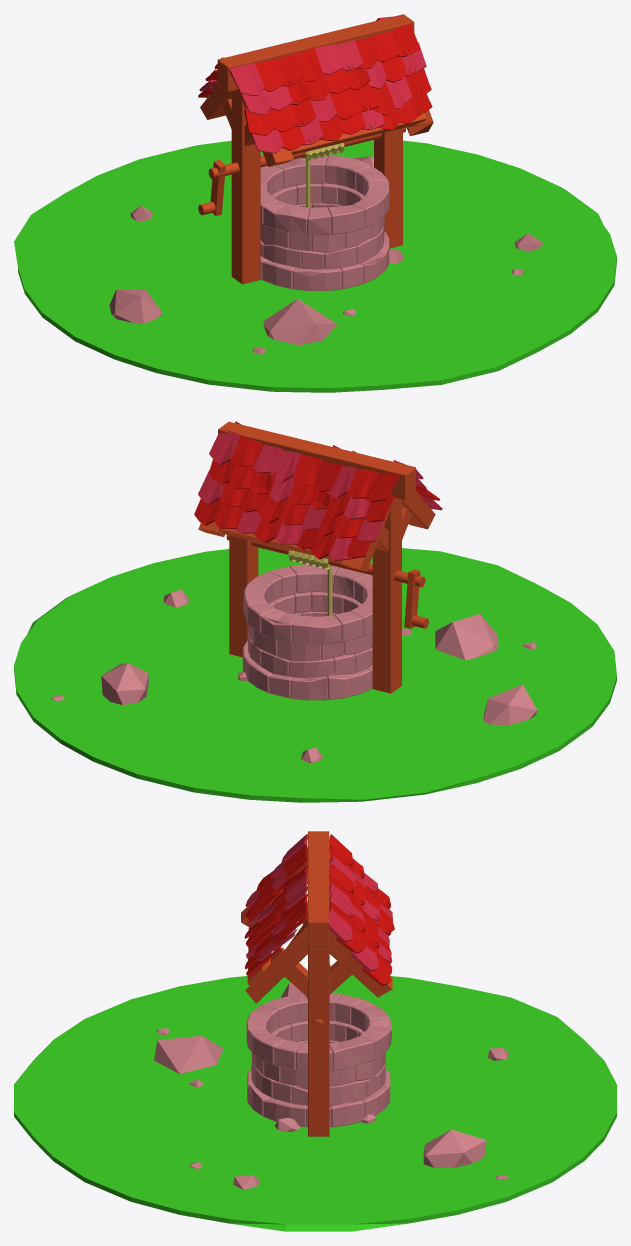
The model's file is well.obj.
The picture shows the model from 3 angles, top to bottom: view 1: azimuth 30°, elevation 25°; view 2: azimuth 150°, elevation 25°; view 3: azimuth 270°, elevation 25°; orthographic projection.
Parts seen in each view (by area): view 1: Cylinder.004_Cylinder.009, Plane, Cube.005, Cube.006_Cube.007, Cube.004, Cube.001, Cube.007_Cube.008, Cube.003, Cube_Cube.006, Icosphere.002, Icosphere.008, Cube.017_Cube.018 (+3 smaller); view 2: Cylinder.004_Cylinder.009, Plane.001, Cube.005, Cube.006_Cube.007, Cube.004, Cube.007_Cube.008, Cube.001, Cube_Cube.006, Cube.003, Icosphere.002, Icosphere.009, Icosphere.008 (+5 smaller); view 3: Cylinder.004_Cylinder.009, Cube.005, Plane.001, Plane, Cube_Cube.006, Cube.004, Cube.001, Cube.007_Cube.008, Cube.003, Icosphere.002, Icosphere.009, Cube.012_Cube.013 (+1 smaller).
Boxes of the visible parts, x1,y1,x2,y2 form: Cylinder.004_Cylinder.009: (14,140,616,392); Plane: (229,24,432,153); Cube.005: (260,155,389,235); Cube.006_Cube.007: (231,90,260,284); Cube.004: (260,182,384,252); Cube.001: (260,231,389,290); Cube.007_Cube.008: (217,14,414,92); Cube.003: (260,203,384,269); Cube_Cube.006: (374,128,402,248); Icosphere.002: (263,298,337,345); Icosphere.008: (109,289,162,324); Cube.017_Cube.018: (291,108,426,154); Cylinder.004_Cylinder.009: (14,547,616,802); Plane.001: (194,428,399,560); Cube.005: (243,564,372,644); Cube.006_Cube.007: (372,497,401,693); Cube.004: (248,592,372,661); Cube.007_Cube.008: (218,421,415,499); Cube.001: (242,640,372,700); Cube_Cube.006: (229,535,258,657); Cube.003: (248,611,372,678); Icosphere.002: (435,614,498,660); Icosphere.009: (101,663,148,705); Icosphere.008: (483,684,537,725); Cylinder.004_Cylinder.009: (14,974,616,1231); Cube.005: (246,993,392,1071); Plane.001: (326,834,394,985); Plane: (244,834,307,976); Cube_Cube.006: (308,942,329,1136); Cube.004: (251,1020,385,1087); Cube.001: (247,1068,390,1127); Cube.007_Cube.008: (308,831,329,946); Cube.003: (251,1040,385,1105); Icosphere.002: (154,1035,223,1073); Icosphere.009: (423,1129,486,1167); Cube.012_Cube.013: (245,918,307,1003).
Bounding box in the file's own units: 56.07 × 27.92 × 56.07.
